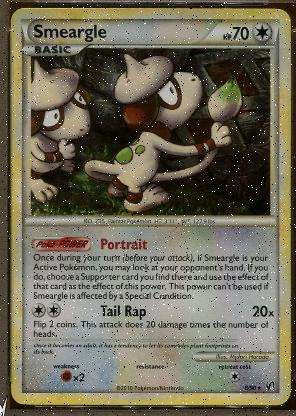Card: (8, 3, 293, 408)
